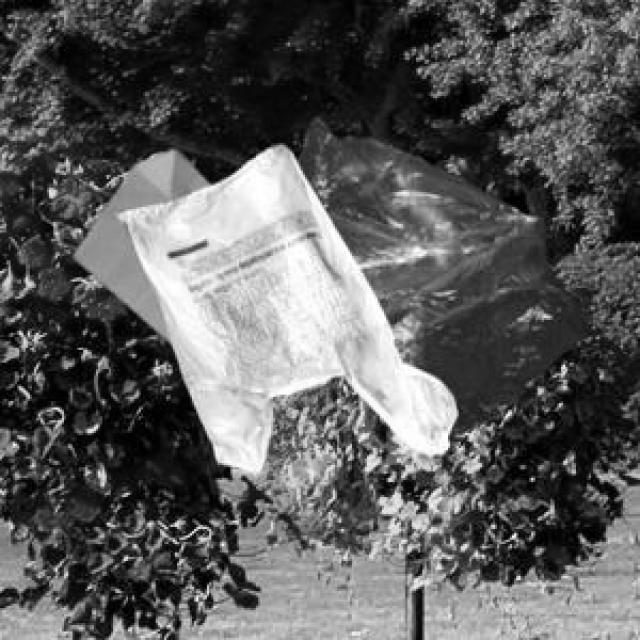paper: (70, 147, 205, 337)
